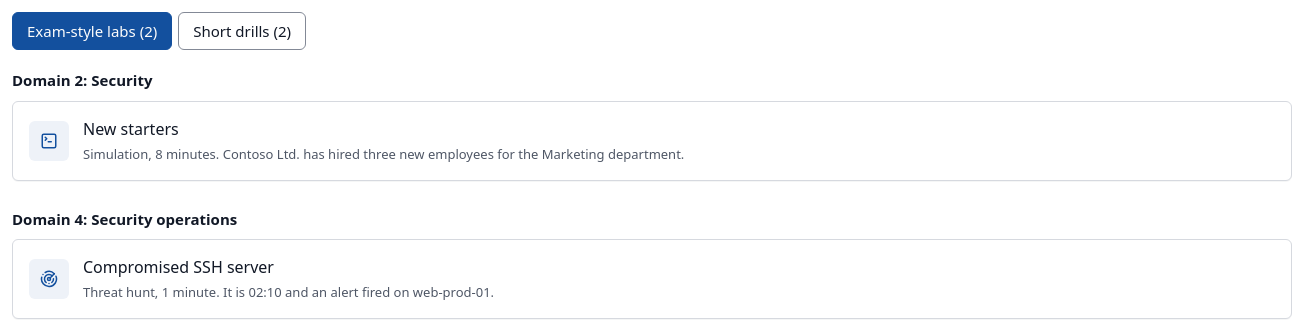
Scenario: the workspace's labs › lists the exam-style labs and the short drills as two tabs, each lab by domain with its kind in words
The image size is (1304, 336).
Expected: the heading "Domain 2: Security" is shown, top-left (12, 70), bottom-right (152, 90)
Expected: the heading "Domain 4: Security operations" is shown, top-left (12, 209), bottom-right (237, 229)
Click the tab "Short drills (2)".
click(242, 31)  # box top-left (178, 12), bottom-right (306, 50)
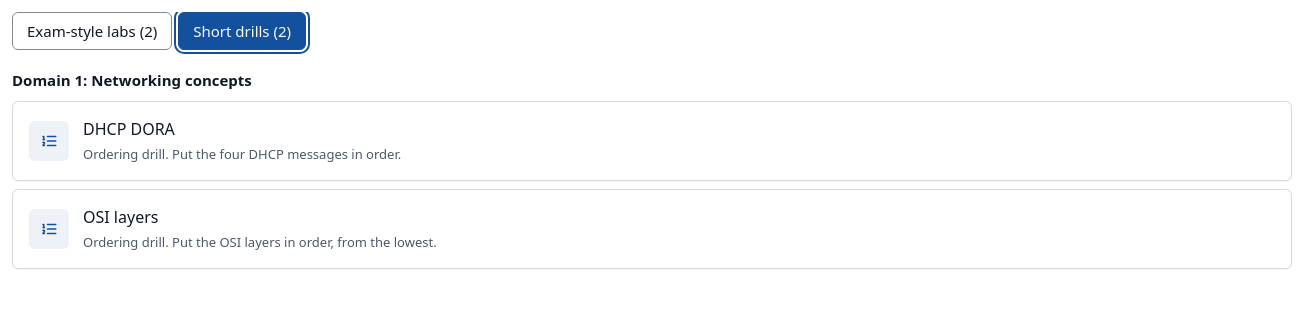
Result: the heading "Domain 1: Networking concepts" is shown at top-left (12, 70), bottom-right (252, 90)
Result: the button "DHCP DORA" shows "Ordering drill. Put the four DHCP messages in order." at top-left (12, 101), bottom-right (1292, 181)
Result: the button "New starters" is gone
